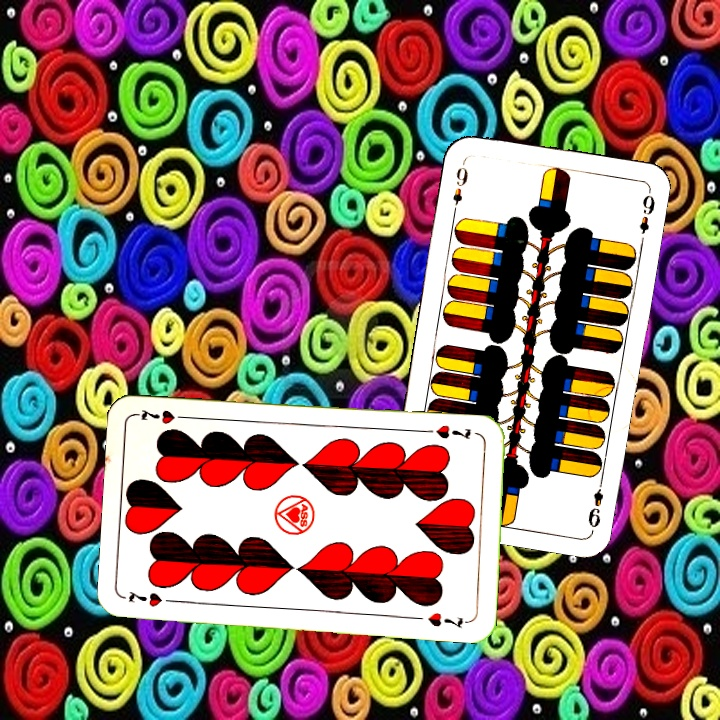E9: (448, 157, 471, 216), (584, 474, 606, 532)
H7: (124, 588, 181, 609), (432, 421, 474, 442)
